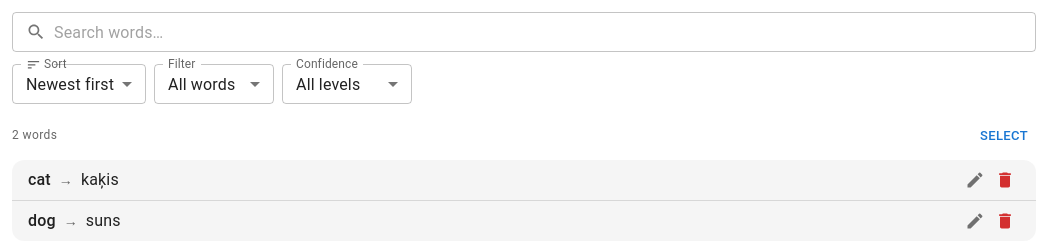
Scenario: WordList › should filter words by search query
Type "cat" into the field labelled "Search words…".
click(545, 32); type("cat")  # box [54,12,1036,52]
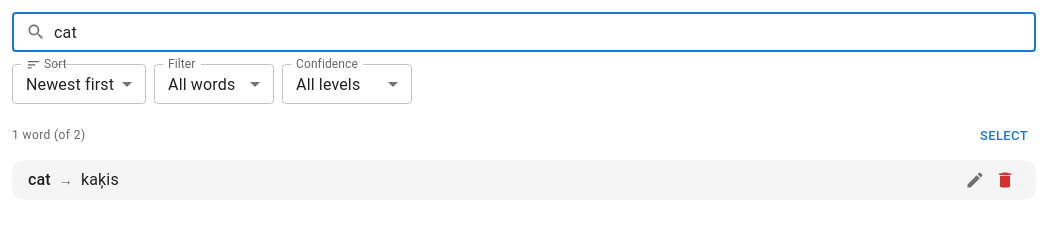
expect the text "cat" is shown: met, box [28,168,51,192]
expect the text "dog" is gone: met
